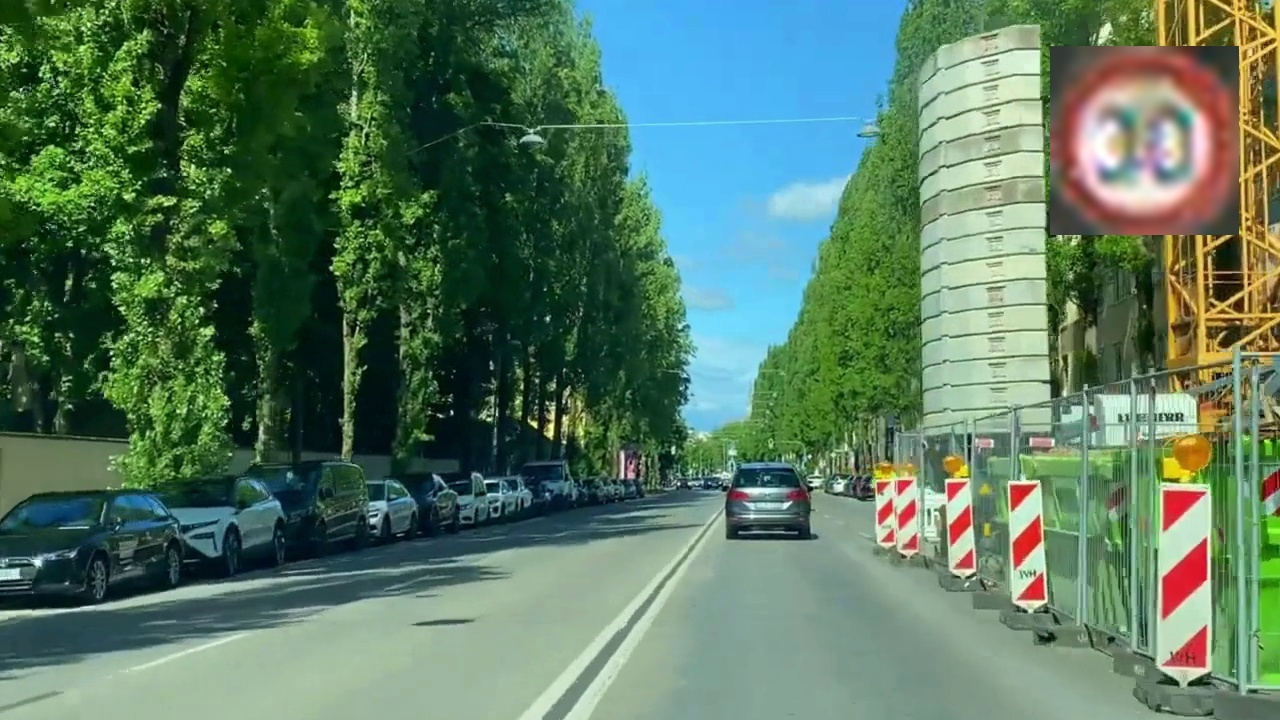Speed 30: (1050, 46, 1239, 235)
